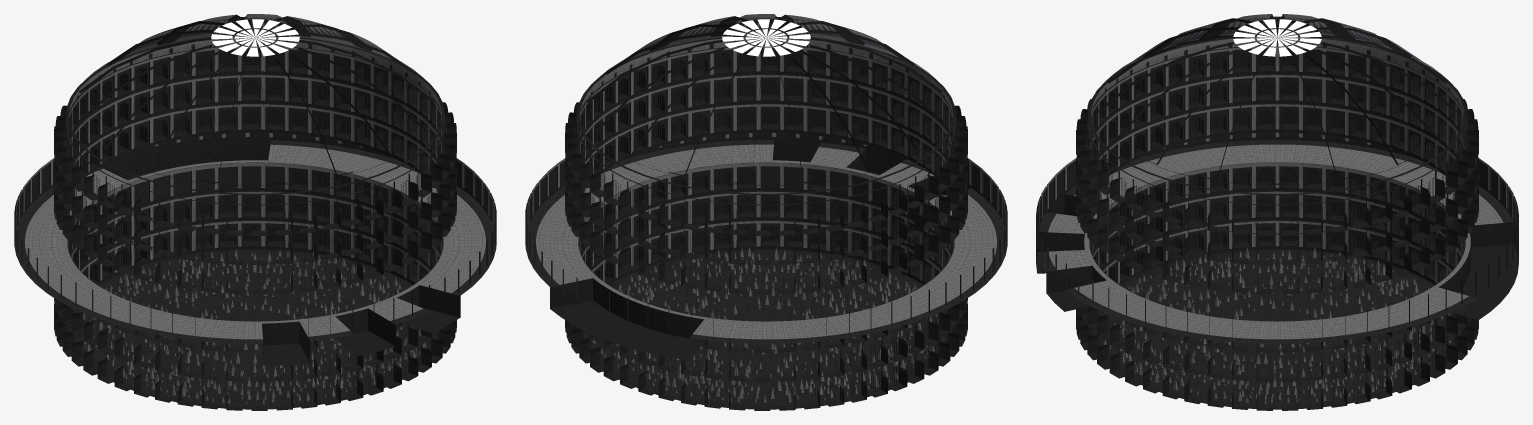
File: marble.glb
3 views of the same model, side by side, from view 1: azimuth 30°, elevation 25°; view 2: azimuth 150°, elevation 25°; view 3: azimuth 270°, elevation 25° (orthographic).
Parts seen in each view (by area): view 1: MarbleStone; view 2: MarbleStone; view 3: MarbleStone.
Boxes of the visible parts, x1,y1,x2,y2 form: MarbleStone: (14, 14, 496, 410); MarbleStone: (525, 14, 1007, 410); MarbleStone: (1036, 14, 1518, 410).
Size of what is drawn, in the model's own units: 120 by 79.95 by 120.
14 materials, 13 textured.
